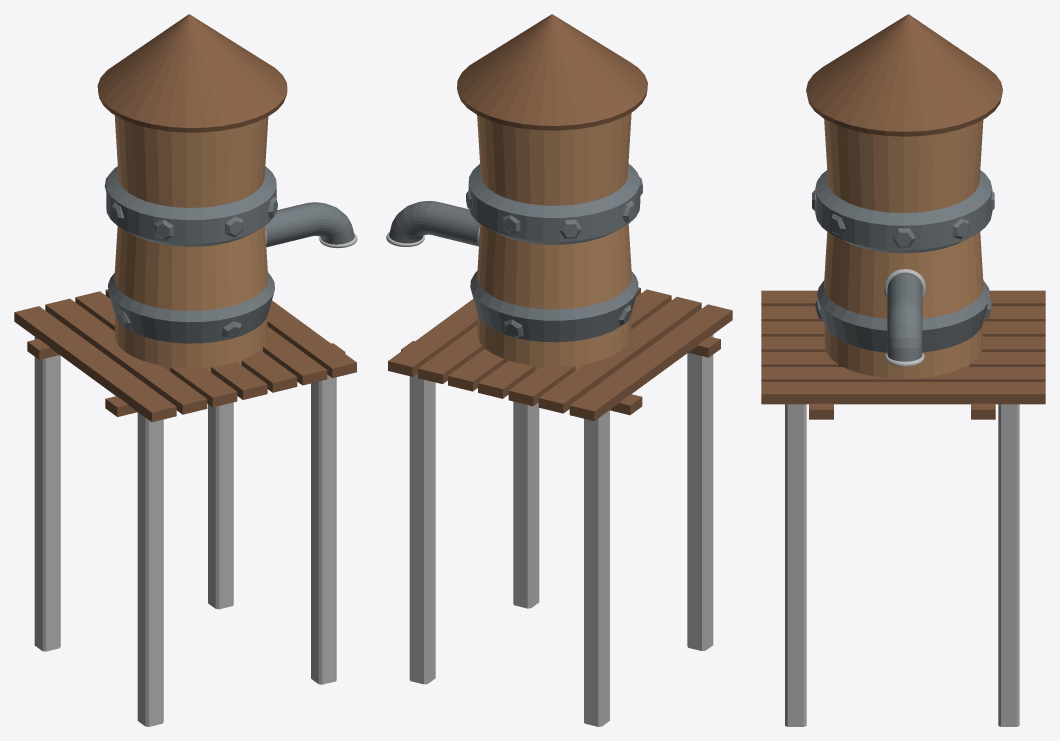
The model's file is WaterTower.fbx.
3 renders of one model, left to right at view 1: azimuth 30°, elevation 25°; view 2: azimuth 150°, elevation 25°; view 3: azimuth 270°, elevation 25°, orthographic. The views are drawn at different scales.
Visible parts, largest first — view 1: Cube.002; view 2: Cube.002; view 3: Cube.002.
Part boxes in pixels (x1=…): Cube.002: x1=14, y1=14, x2=357, y2=726; Cube.002: x1=386, y1=14, x2=732, y2=726; Cube.002: x1=761, y1=14, x2=1045, y2=726.
Size of the model in its own units: 2301 by 4996 by 1929.
